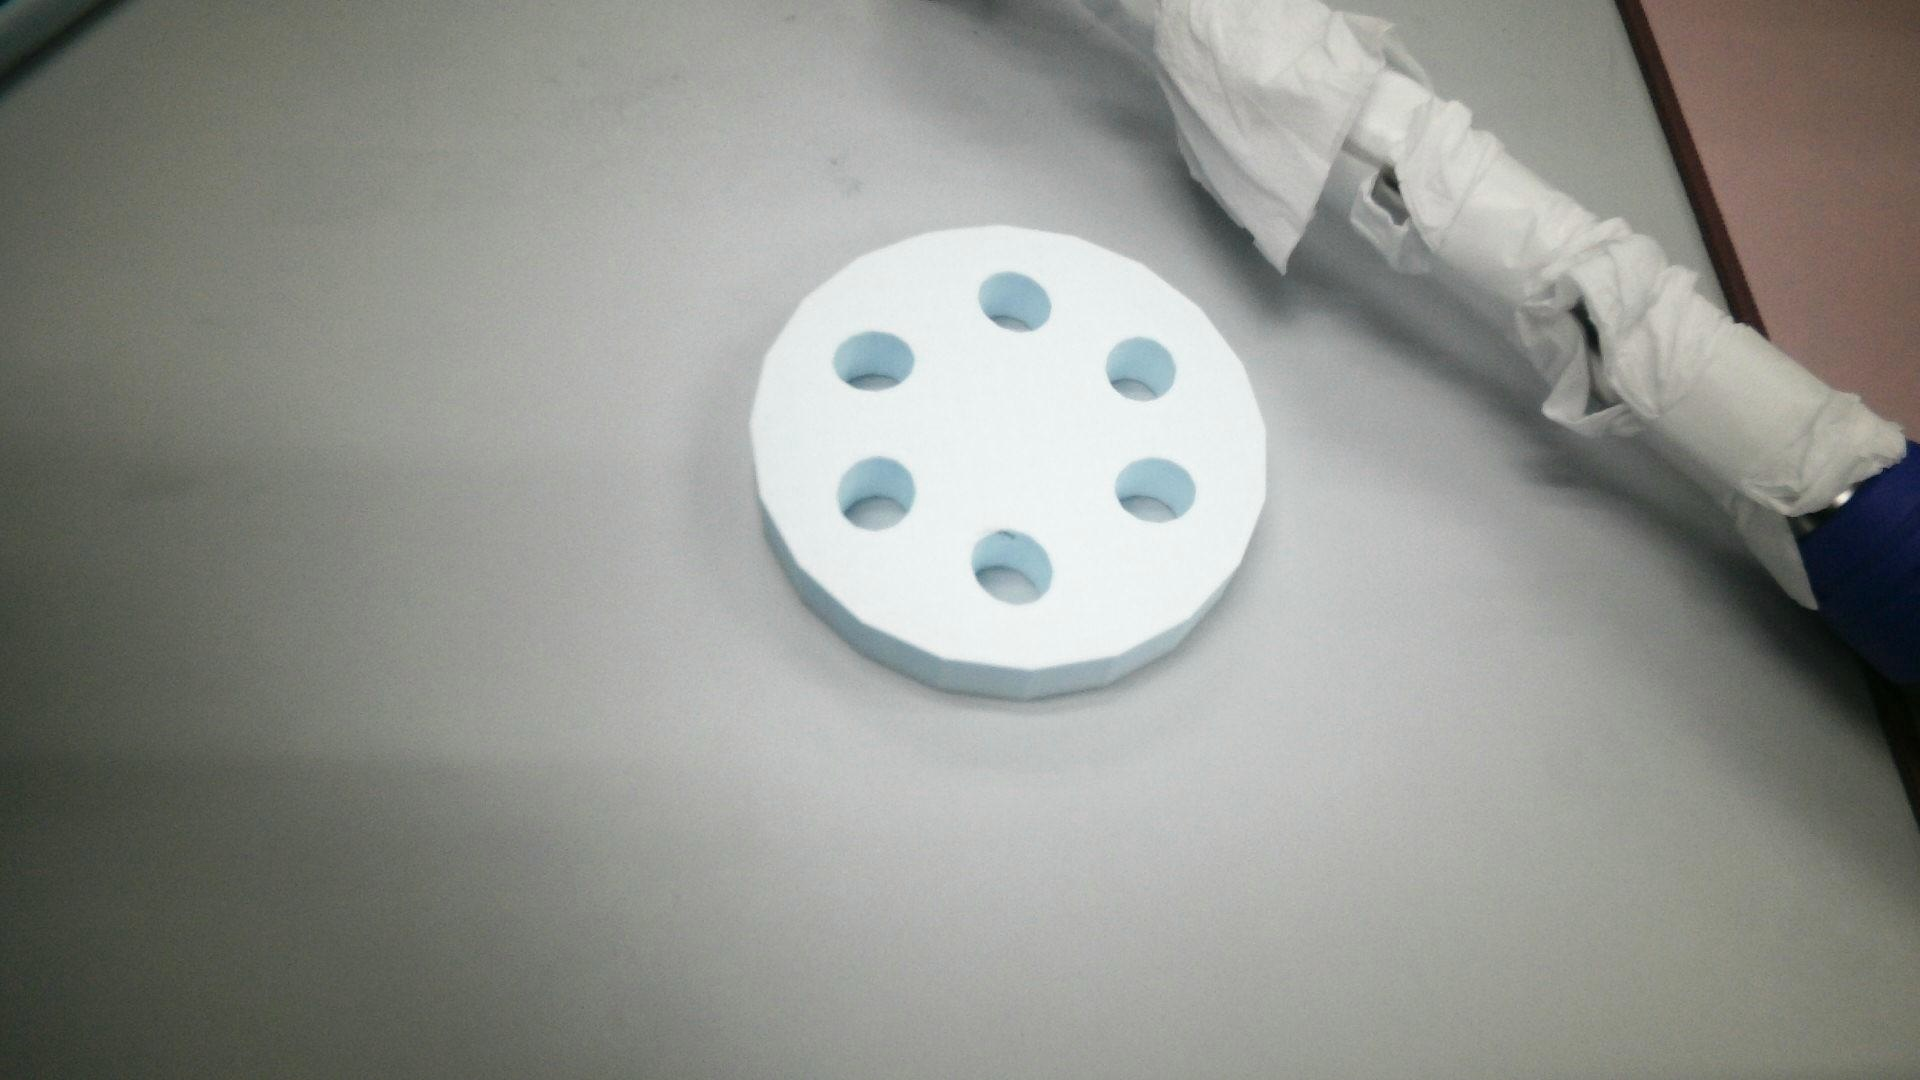hole: (1112, 455, 1207, 526), (975, 269, 1064, 338), (975, 525, 1050, 607), (840, 452, 914, 530), (832, 326, 916, 392), (1109, 334, 1182, 400)
obj: (727, 212, 1279, 715)
